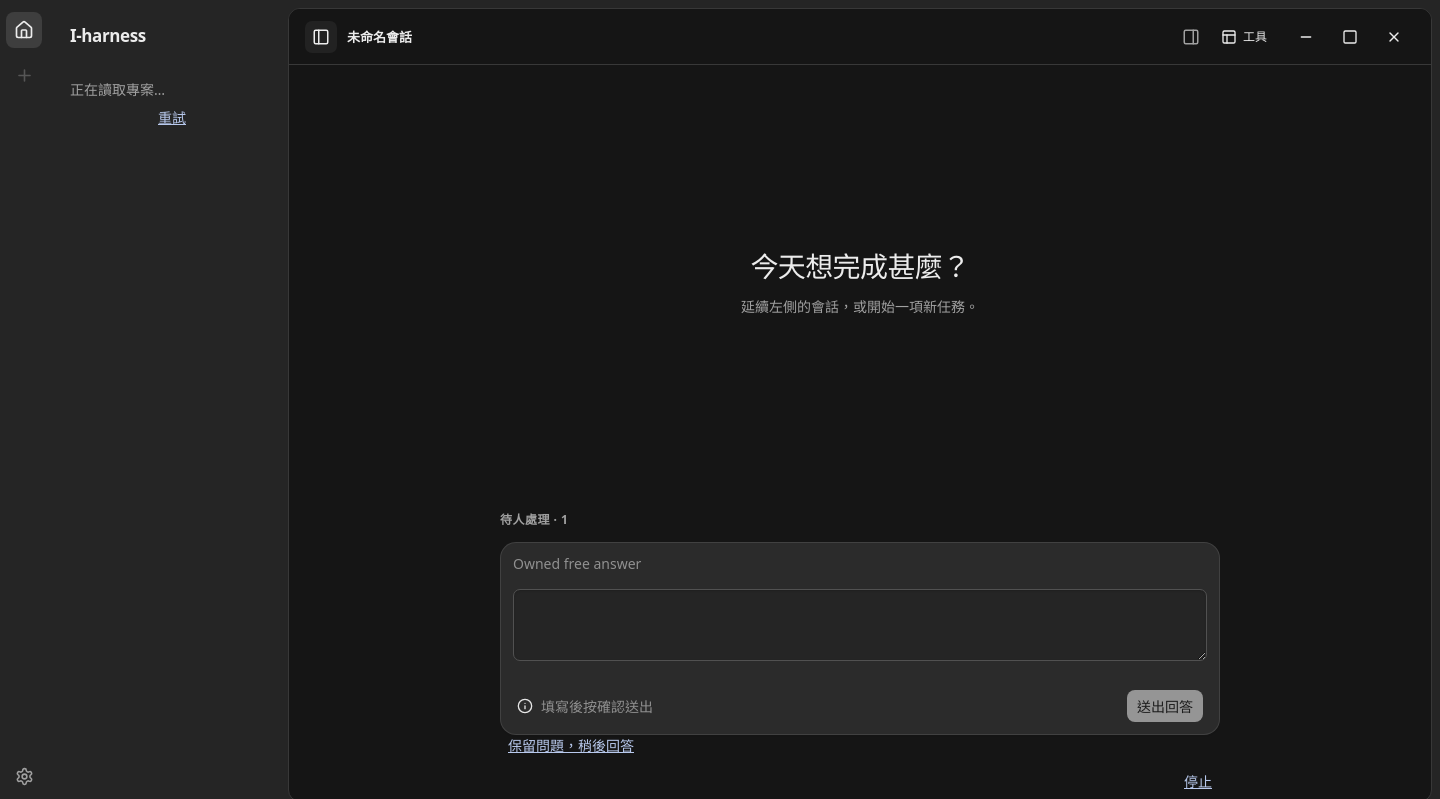
keeps the free answer through actual Workbench Settings navigation
Step 1. Type "Keep my answer" into the text box named "回答 Owned free answer" → {"x": 860, "y": 625}, box [513,588,1207,661]
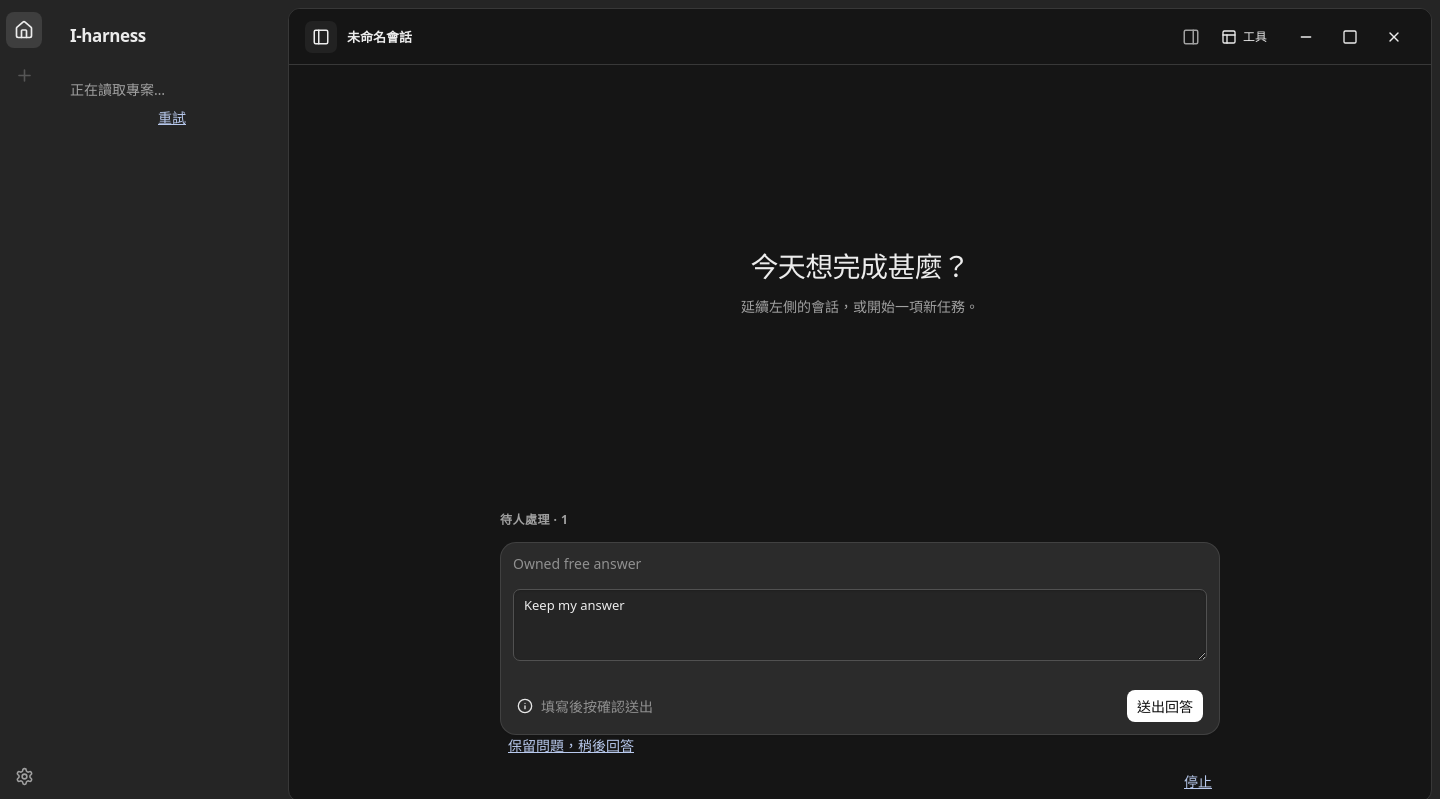
Step 2. Click the button named "設定" → {"x": 24, "y": 776}, box [6,758,42,794]
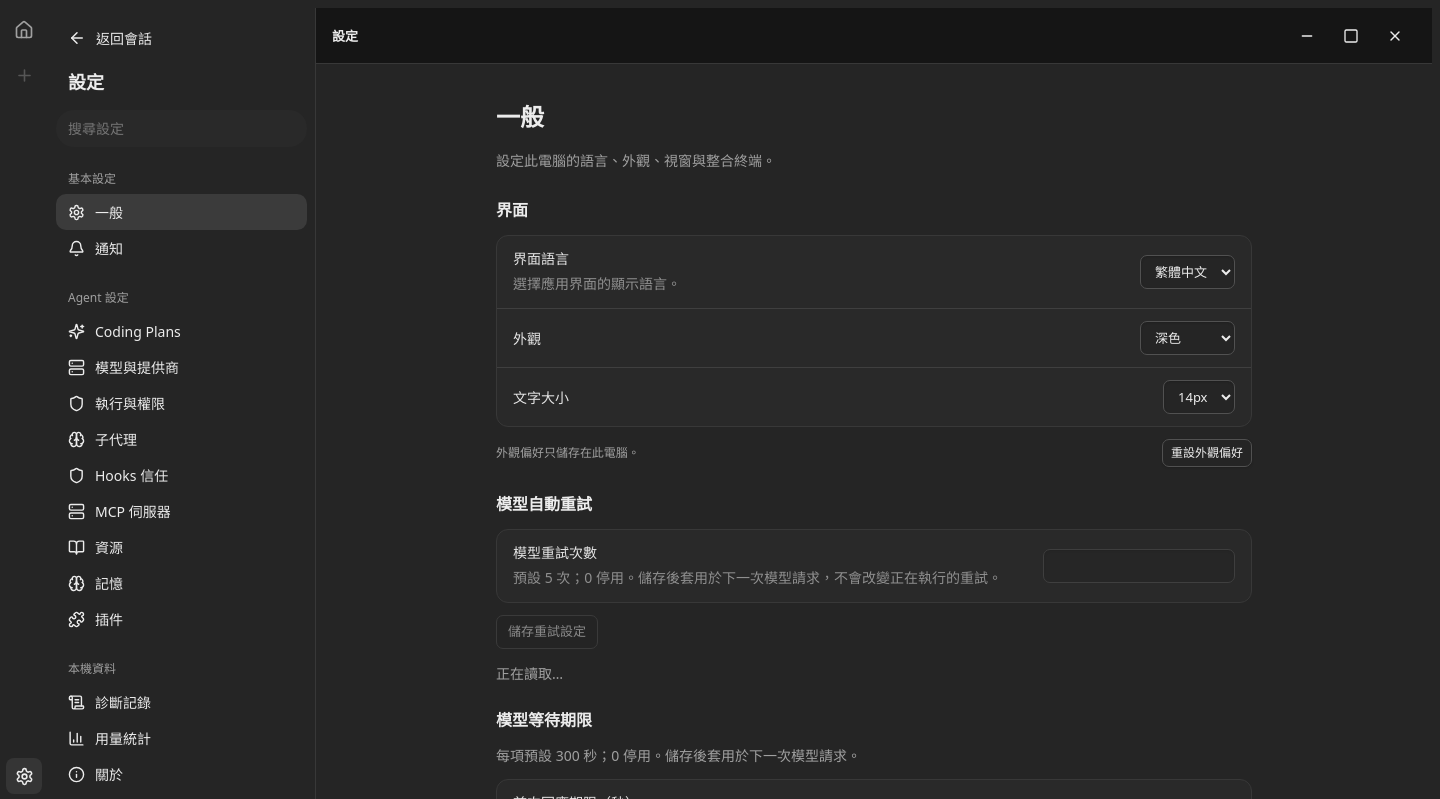
Step 3. Click the button "返回會話" → {"x": 182, "y": 38}, box [56,20,307,56]
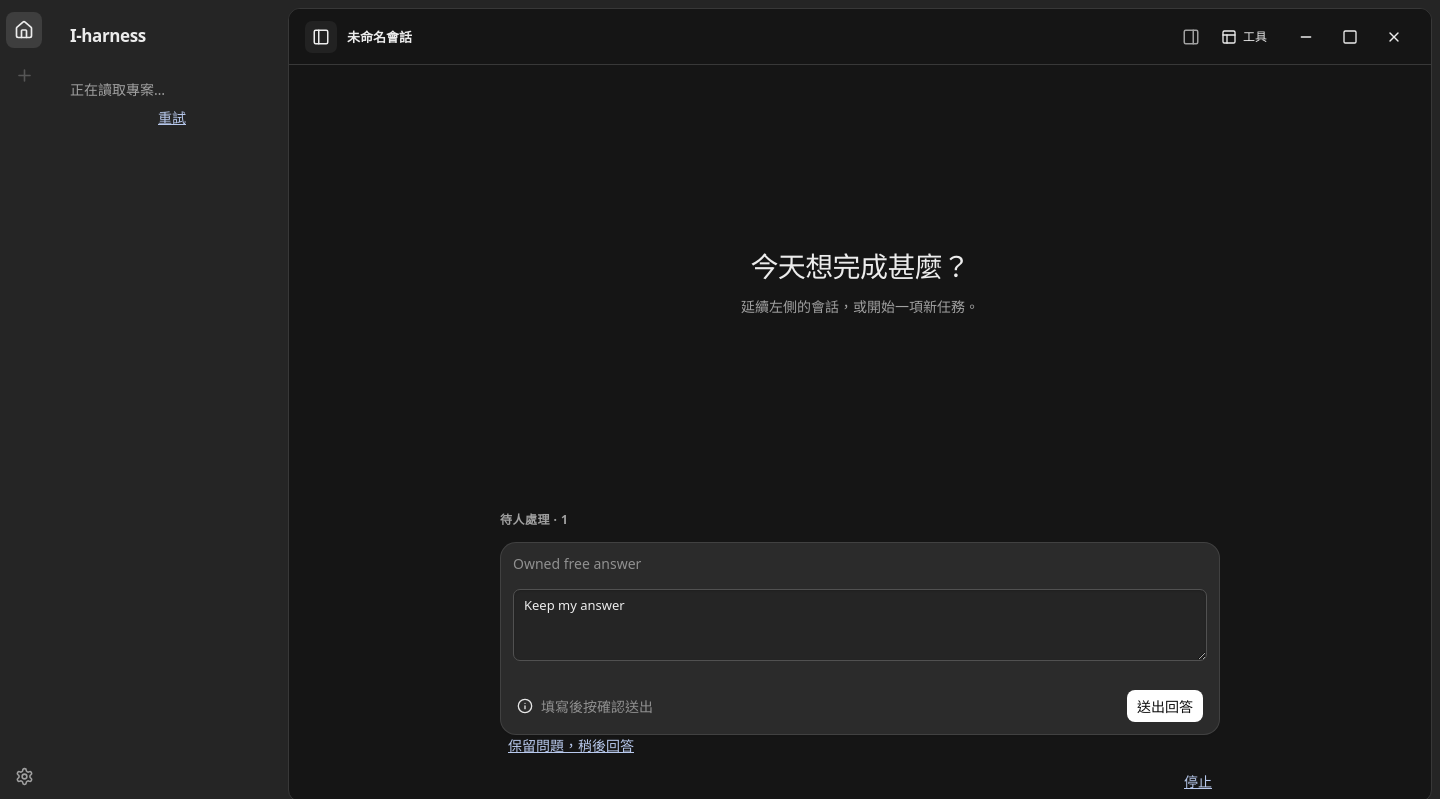
Check: the text box named "回答 Owned free answer" holds "Keep my answer", box [513,588,1207,661]
